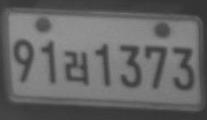1: (92, 43, 114, 87), (39, 39, 60, 85)
3: (171, 46, 196, 90), (118, 43, 142, 87)
7: (143, 45, 168, 88)
9: (11, 38, 36, 82)
러: (63, 49, 88, 85)
